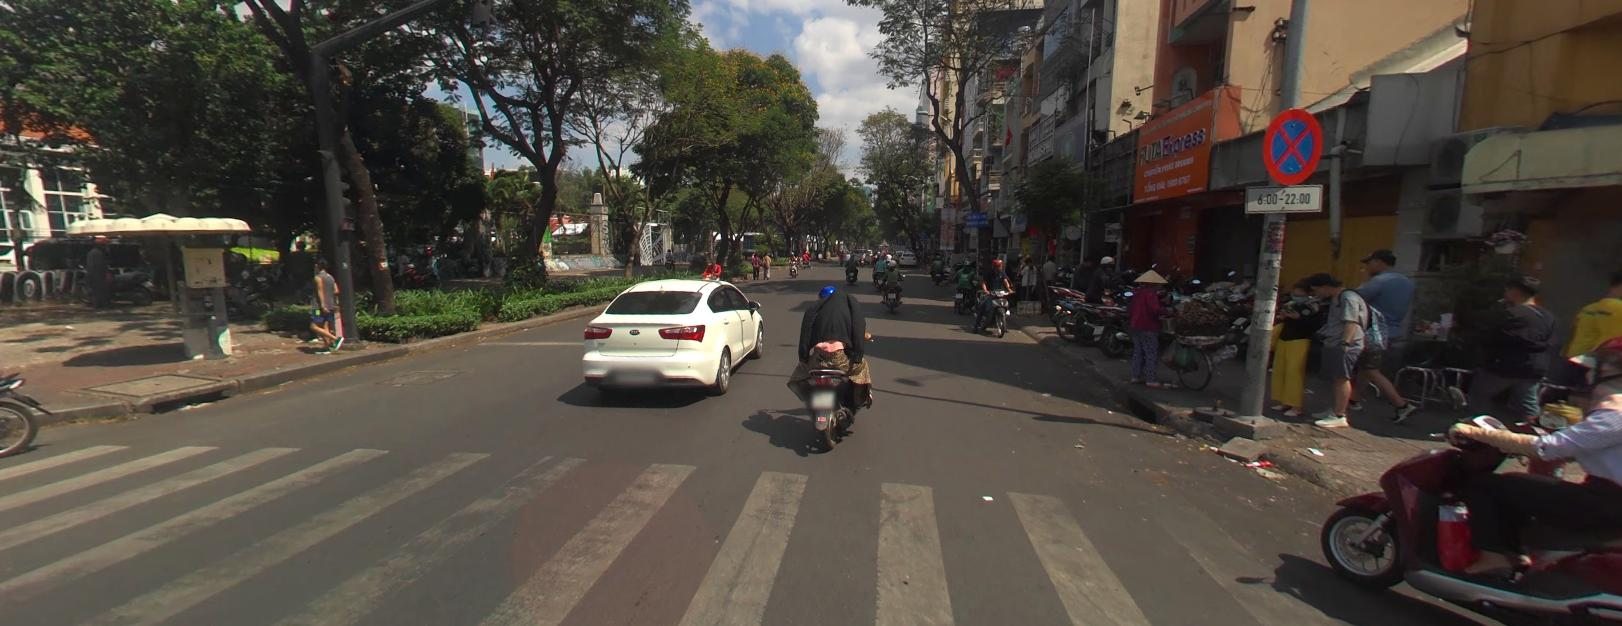Cam dung va do: (1263, 106, 1322, 184)
